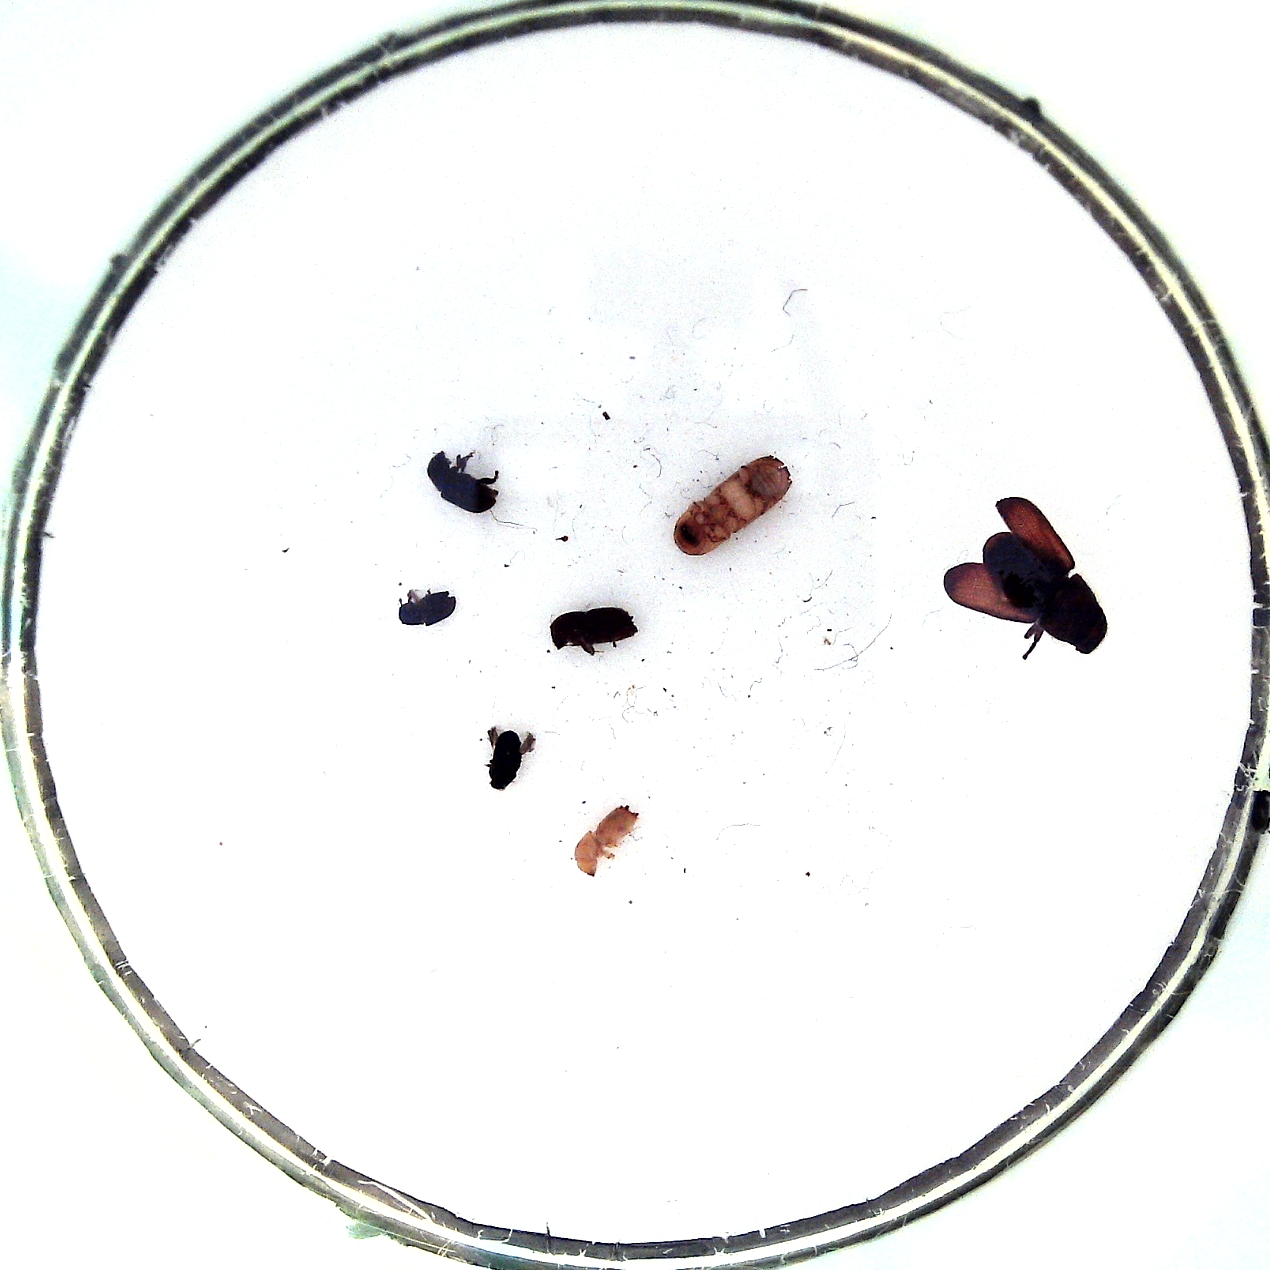Boerner: (675, 456, 792, 556)
Leconte: (983, 531, 1107, 656)
acuminatus: (487, 732, 525, 791)
armandi: (428, 452, 499, 514)
coleoptera: (399, 592, 455, 627)
linnaeus: (575, 804, 640, 877), (549, 607, 637, 650)
